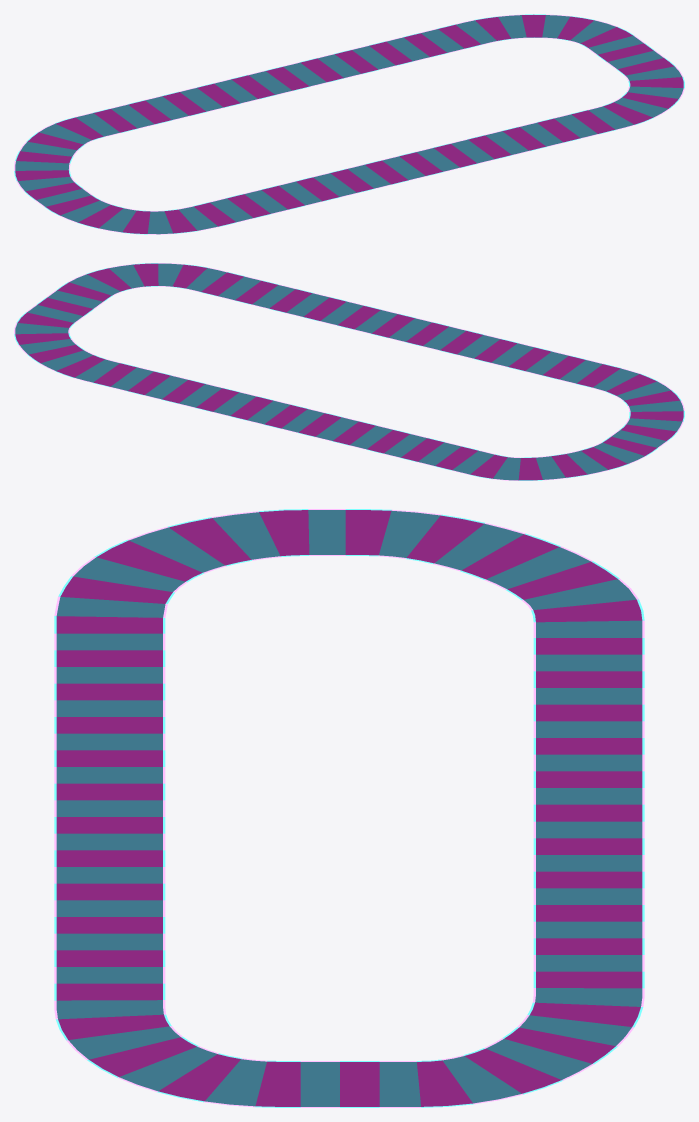
File: path.glb
3 views of the same model, one above another, from view 1: azimuth 30°, elevation 25°; view 2: azimuth 150°, elevation 25°; view 3: azimuth 270°, elevation 25° (orthographic). The views are drawn at different scales.
Visible parts, largest first — view 1: path; view 2: path; view 3: path.
Part boxes in pixels (box(x1,y1,x2,y2)): path: box(14, 14, 684, 234); path: box(14, 263, 684, 480); path: box(54, 509, 644, 1107).
Size of the model in its own units: 7.58 by 9.9e-08 by 3.16.
